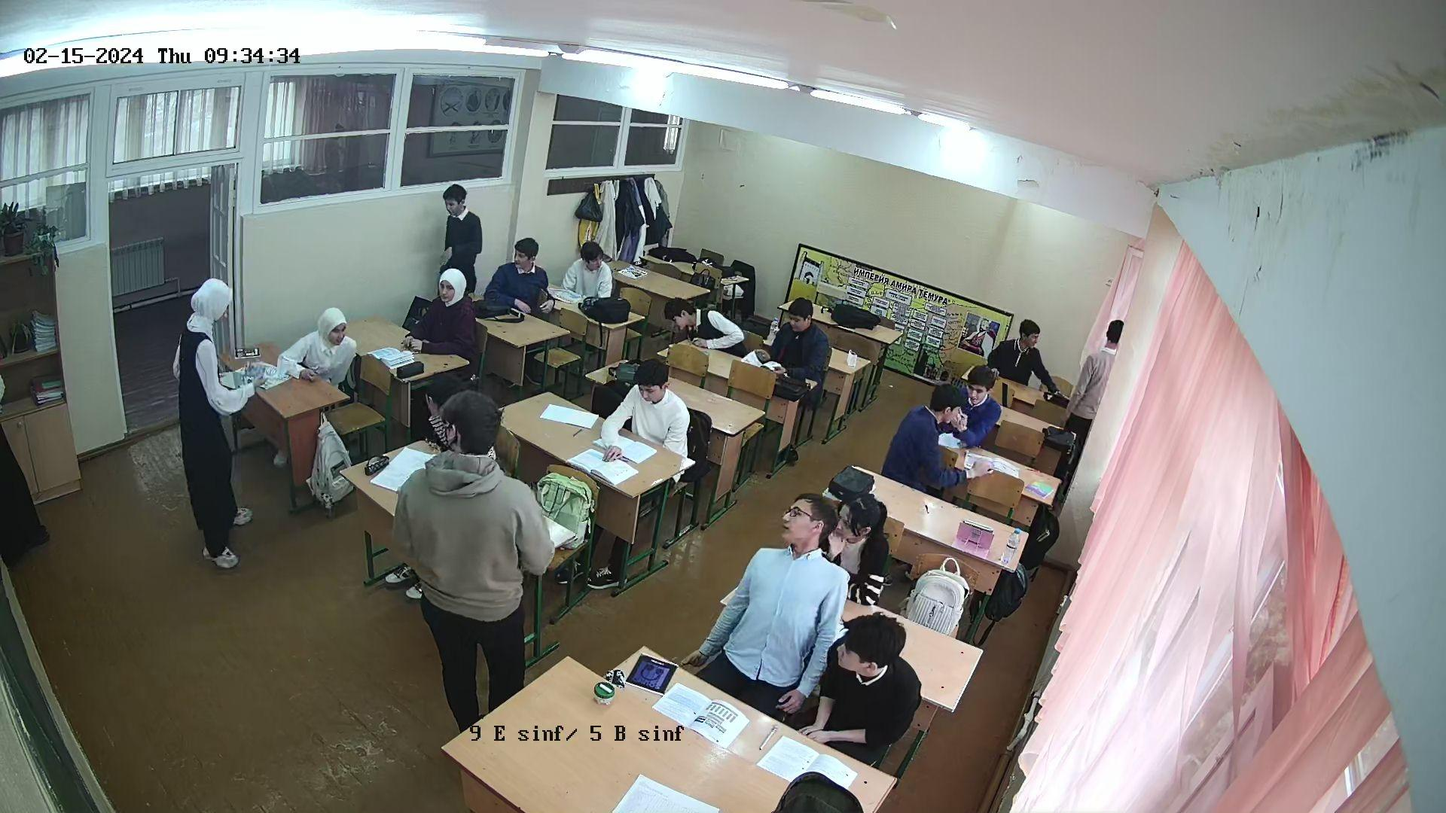Bend Over The Desk: (654, 295, 743, 360)
Hand Under Table: (686, 596, 738, 668), (807, 701, 857, 752), (664, 412, 699, 473)
Look Around: (295, 297, 364, 388), (834, 613, 911, 690), (909, 381, 964, 466), (502, 236, 548, 312), (569, 241, 619, 299), (836, 489, 883, 545), (780, 492, 832, 541), (1011, 317, 1041, 352)
Normal: (598, 358, 671, 461), (407, 268, 478, 344), (777, 294, 833, 387), (970, 363, 1000, 412)
Stand Up: (410, 400, 521, 699), (156, 276, 256, 581), (1080, 312, 1128, 436), (435, 180, 485, 267)
